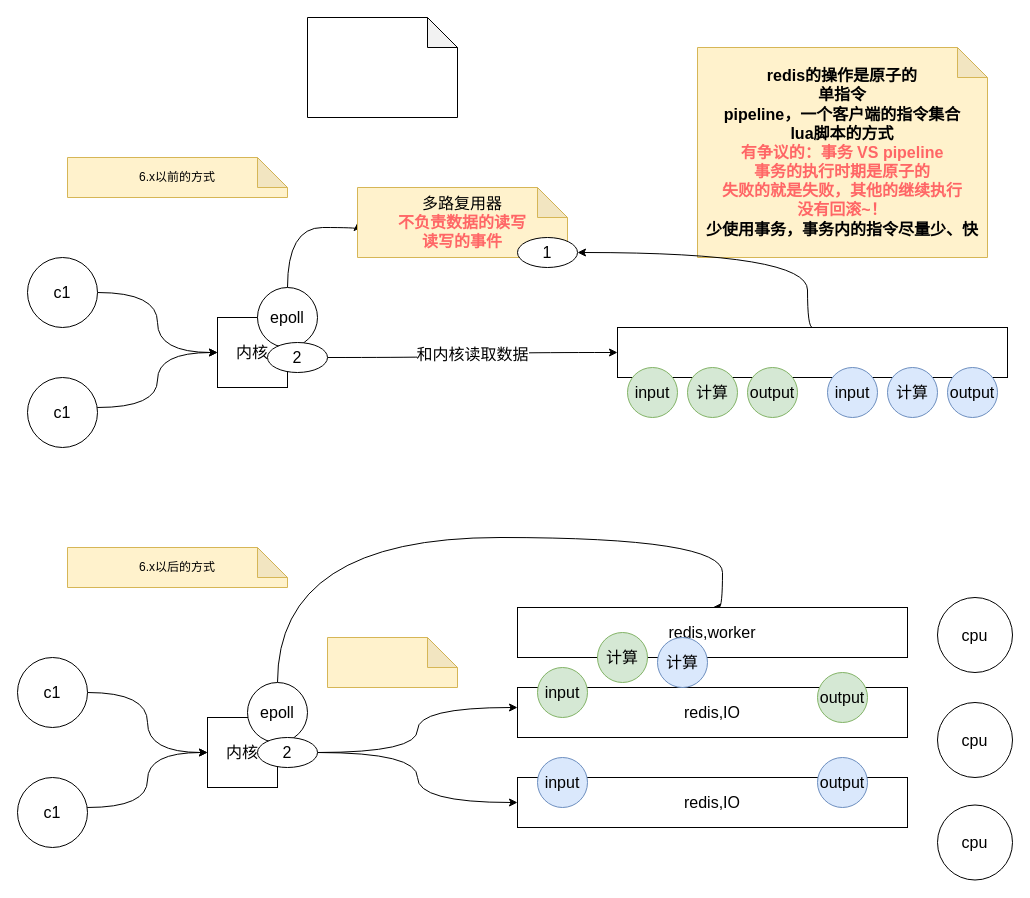
Some shapes in this 1030 by 898 pixel diagram are drawn without their labels. Each missing label, with the centre of its shape:
redis工作线程只有一个: (x=812, y=352)
搬运是并行的: (x=392, y=662)
缓存与rdis的问题: (x=382, y=67)
